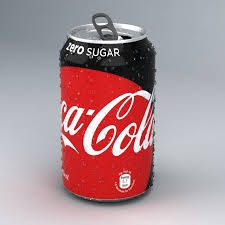metal: (52, 10, 165, 209)
